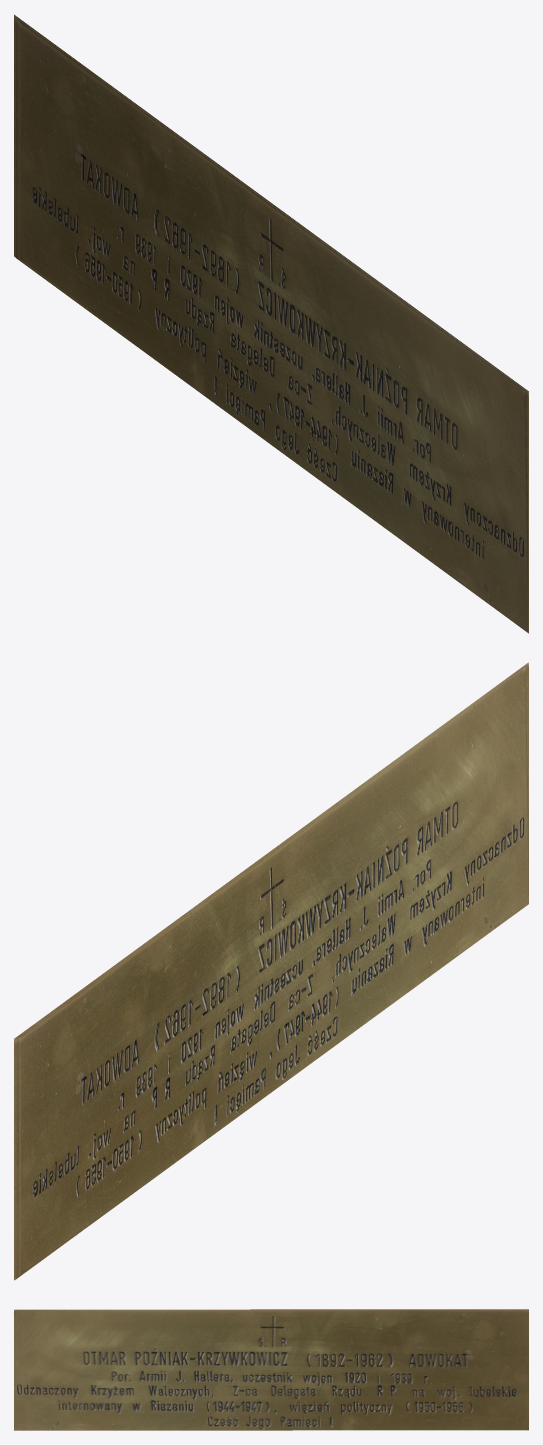
Rendered from 65. Ś.P. OTMAR POŹNIAK-KRZYWKOWICZ.glb.
The picture shows the model from 3 angles, top to bottom: view 1: azimuth 30°, elevation 25°; view 2: azimuth 150°, elevation 25°; view 3: azimuth 270°, elevation 25°; orthographic projection. The views are drawn at different scales.
Visible parts, largest first — view 1: Plane; view 2: Plane; view 3: Plane.
Boxes of the visible parts, <box> form: Plane: <box>14,14,528,633</box>; Plane: <box>14,662,528,1280</box>; Plane: <box>14,1309,528,1430</box>.
Size of the model in its own units: 0.0102 by 7 by 27.
1 material, 1 textured.
